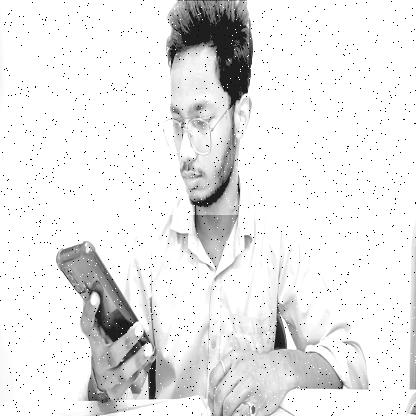Distracted: (157, 1, 249, 215)
